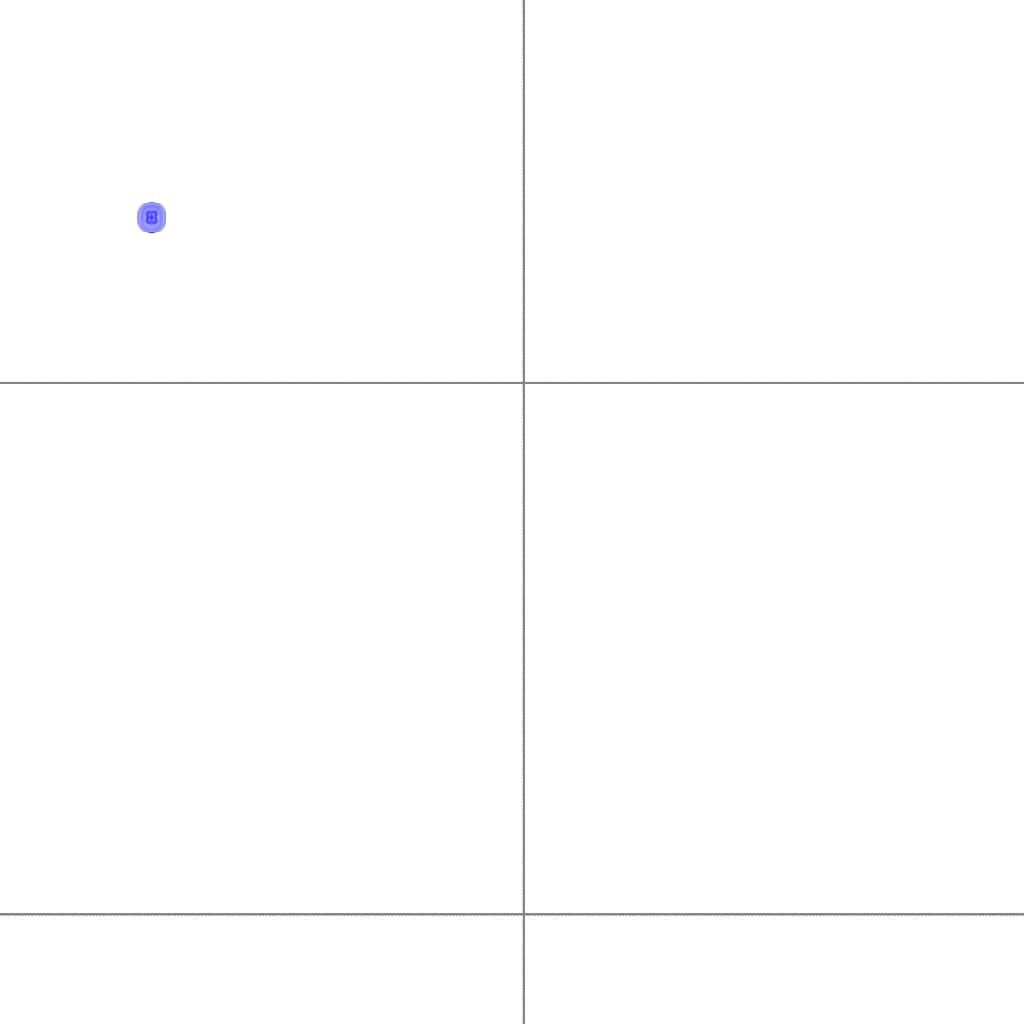Taster_beleuchtet: (135, 201, 168, 234)
